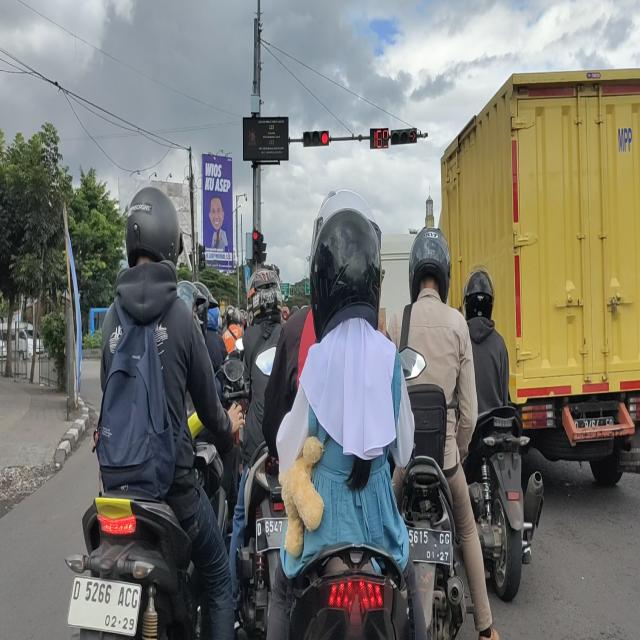helmet: (311, 213, 381, 324), (128, 189, 180, 269), (409, 228, 450, 297), (247, 269, 282, 319), (465, 268, 496, 322), (180, 282, 203, 321), (208, 304, 220, 329), (227, 304, 237, 326)
